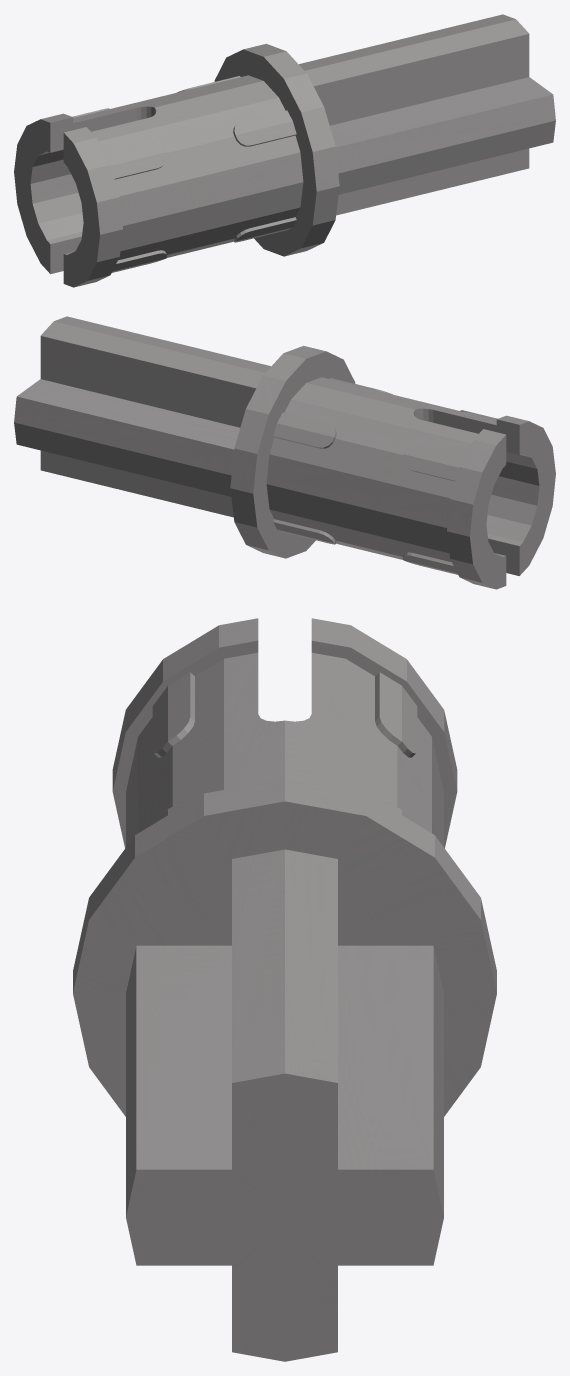
The model's file is connector_peg_with_cross_axle.dae.
The picture shows the model from 3 angles, top to bottom: view 1: azimuth 30°, elevation 25°; view 2: azimuth 150°, elevation 25°; view 3: azimuth 270°, elevation 25°; orthographic projection. The views are drawn at different scales.
Visible parts, largest first — view 1: node; view 2: node; view 3: node.
Boxes of the visible parts, <box> form: node: <box>14,14,555,287</box>; node: <box>14,316,555,589</box>; node: <box>73,618,496,1361</box>.
Bounding box in the file's own units: 40 × 16 × 16.
Materials: 1 (1 with a texture image).
